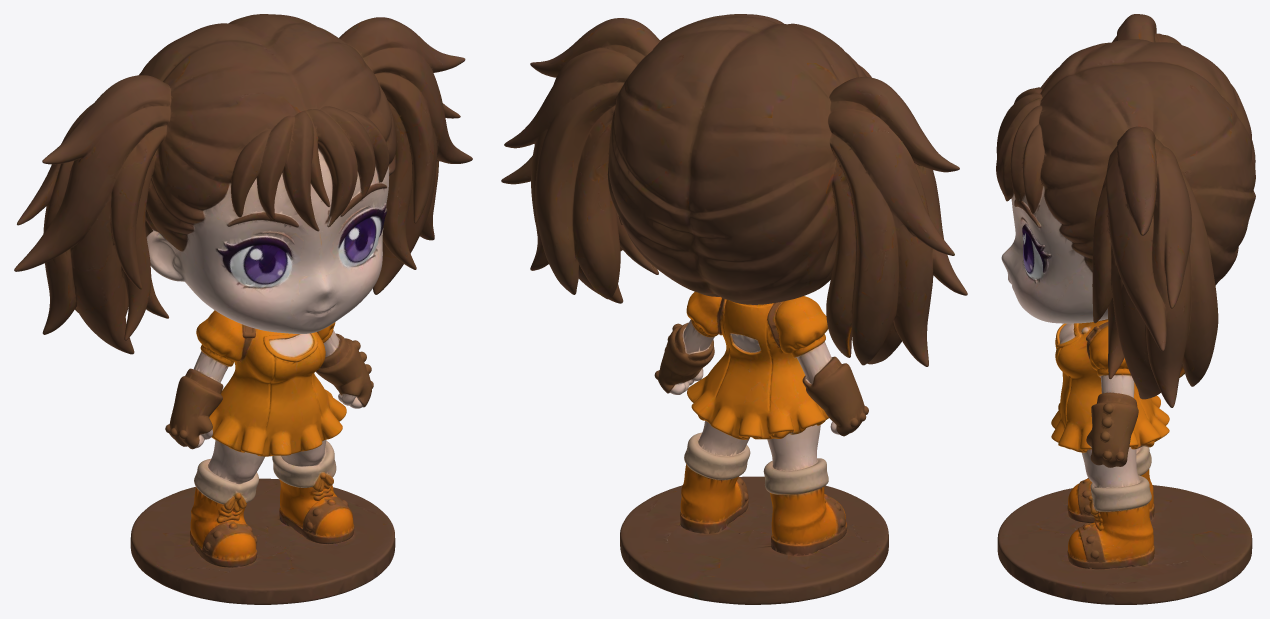
Rendered from guerrera-gigante-chibi-c.glb.
The picture shows the model from 3 angles, left to right: view 1: azimuth 30°, elevation 25°; view 2: azimuth 150°, elevation 25°; view 3: azimuth 270°, elevation 25°; orthographic projection. The views are drawn at different scales.
Bounding box in the file's own units: 1.78 × 1.9 × 0.9068.
Materials: 1 (1 with a texture image).
